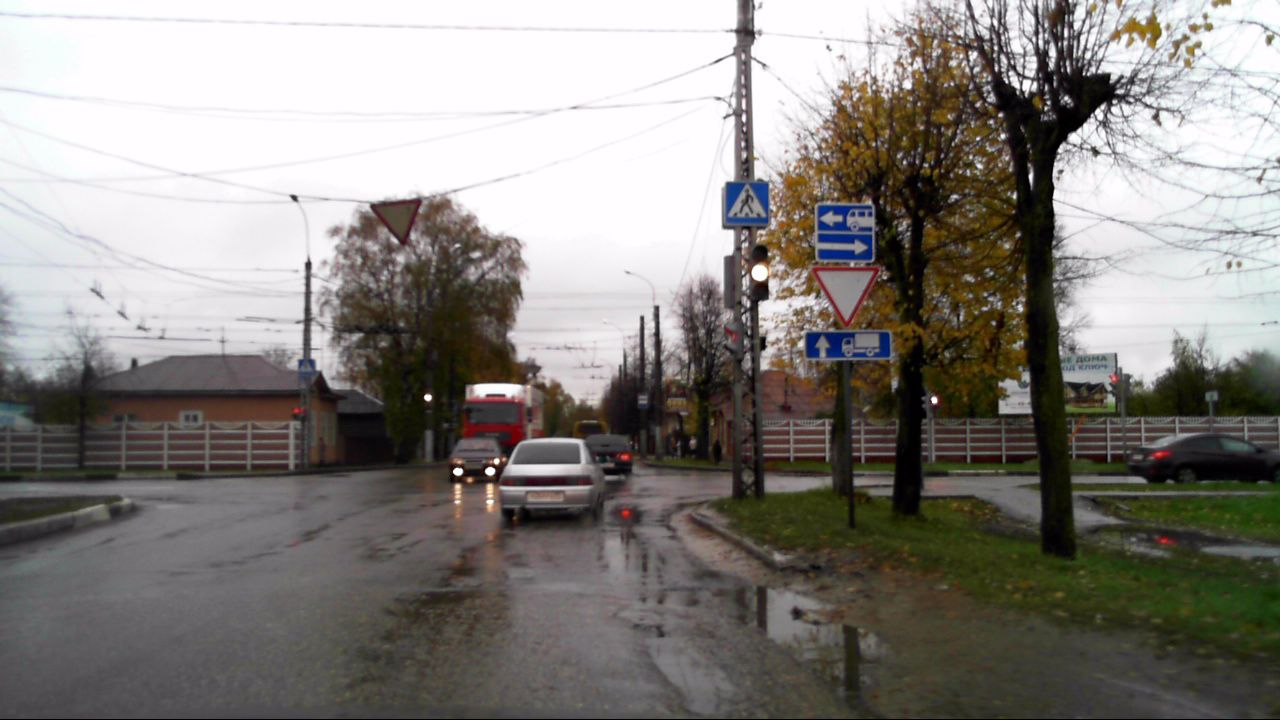One-Way Traffic: (816, 232, 874, 262)
Pedestrian Crossing: (725, 182, 769, 225)
